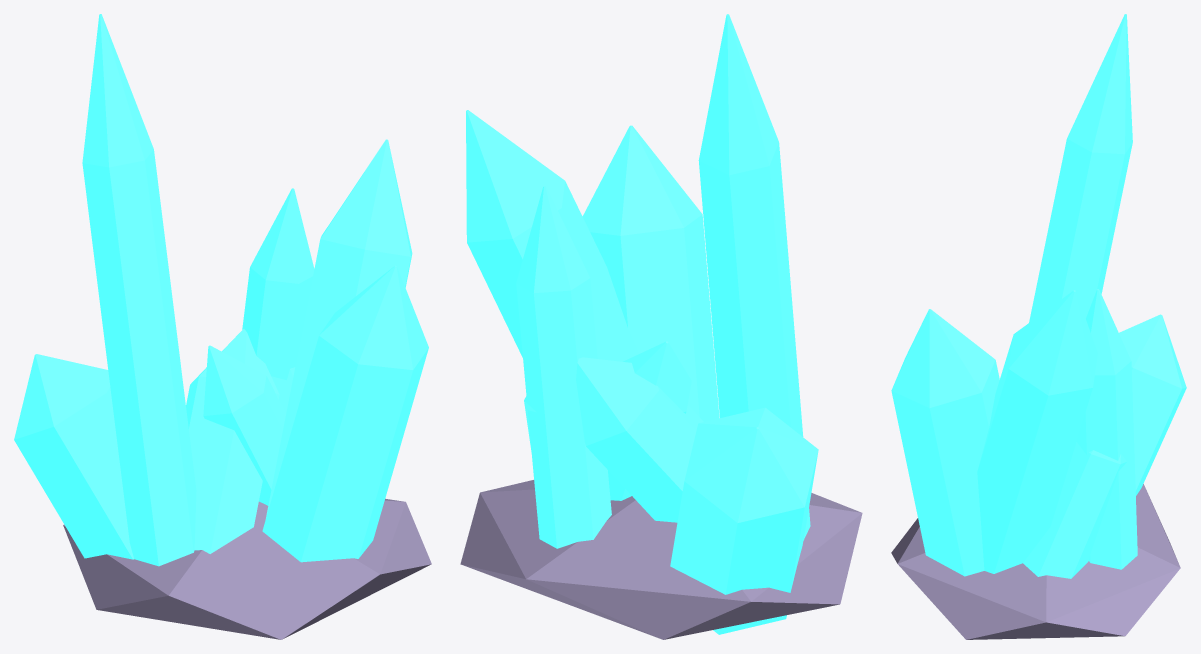
Rendered from crystals_cyan.glb.
3 renders of one model, left to right at view 1: azimuth 30°, elevation 25°; view 2: azimuth 150°, elevation 25°; view 3: azimuth 270°, elevation 25°, orthographic. The views are drawn at different scales.
Parts seen in each view (by area): view 1: crystals_cyan; view 2: crystals_cyan; view 3: crystals_cyan.
Boxes of the visible parts, left/top/right/bottom form: crystals_cyan: left=14, top=14, right=431, bottom=639; crystals_cyan: left=460, top=14, right=862, bottom=639; crystals_cyan: left=891, top=14, right=1186, bottom=639.
Bounding box in the file's own units: 6.29 × 9.65 × 4.94.
